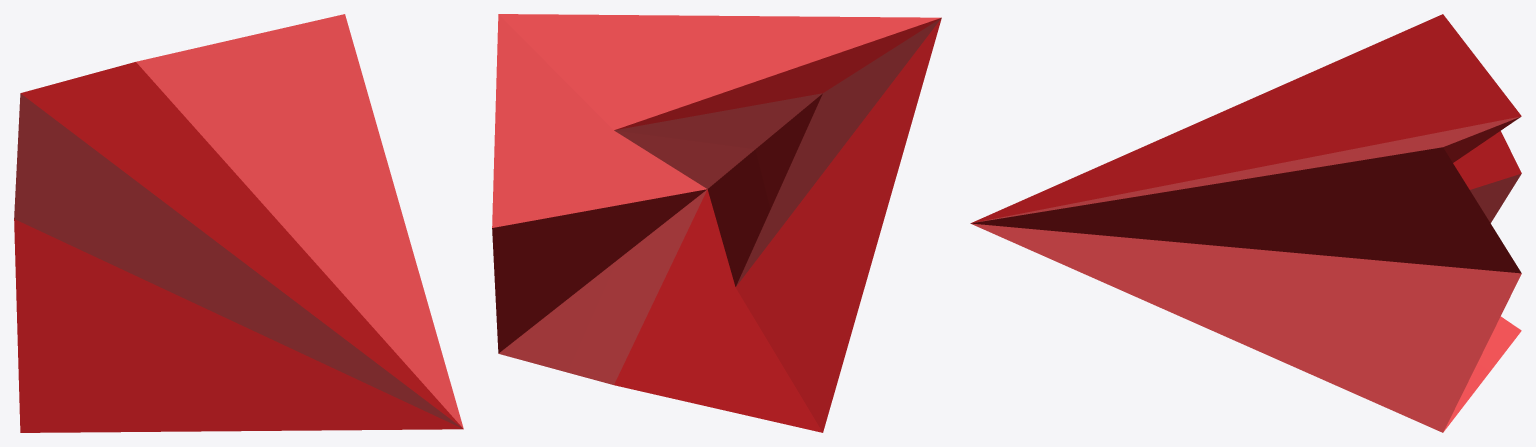
The picture shows the model from 3 angles, left to right: view 1: azimuth 30°, elevation 25°; view 2: azimuth 150°, elevation 25°; view 3: azimuth 270°, elevation 25°; orthographic projection. The views are drawn at different scales.
Visible parts, largest first — view 1: ss3d_73; view 2: ss3d_73; view 3: ss3d_73.
Part boxes in pixels (bbox=[...]): ss3d_73: bbox=[14, 14, 463, 432]; ss3d_73: bbox=[492, 14, 941, 432]; ss3d_73: bbox=[970, 14, 1521, 432].
Size of the model in its own units: 0.2812 by 0.2812 by 0.4922.
1 material, 1 textured.
